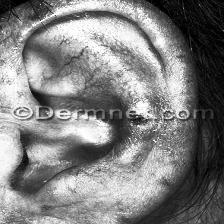Benign Marking or Mole: (132, 112, 151, 128)
